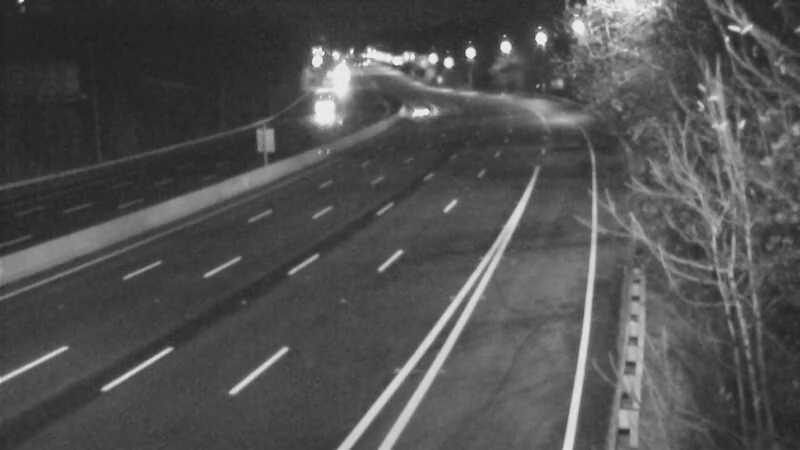vehicle: (394, 84, 444, 134), (304, 88, 354, 138)
